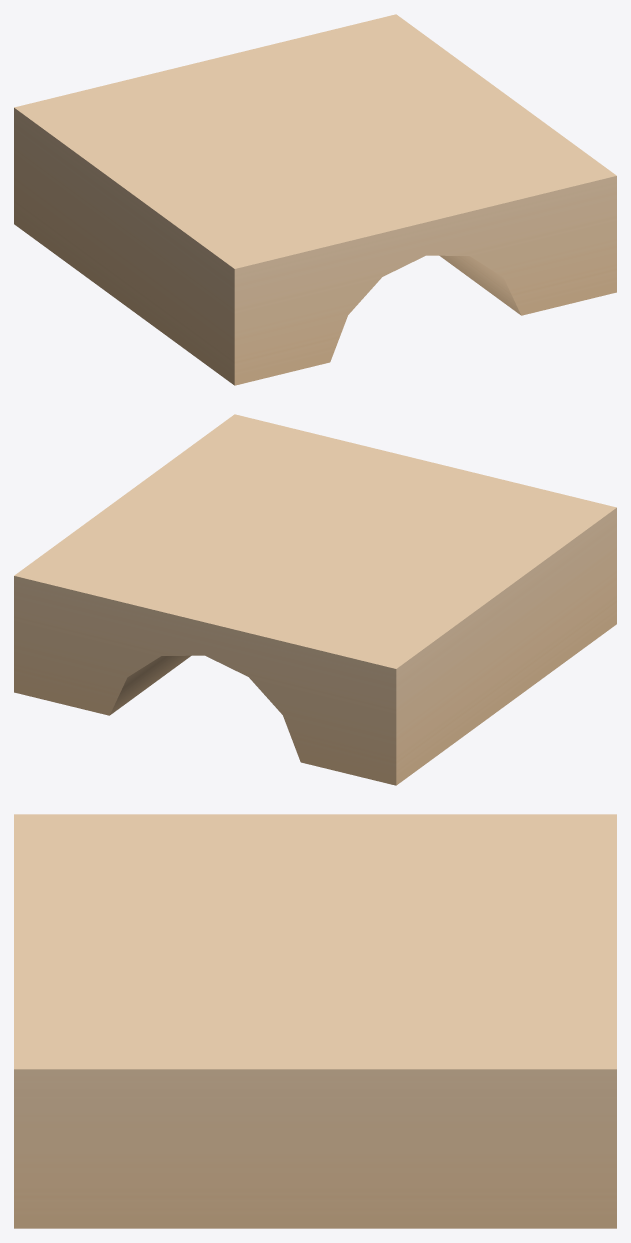
File: structure-gate-wide.glb
3 renders of one model, top to bottom at view 1: azimuth 30°, elevation 25°; view 2: azimuth 150°, elevation 25°; view 3: azimuth 270°, elevation 25°, orthographic. The views are drawn at different scales.
Parts seen in each view (by area): view 1: structure-gate-wide; view 2: structure-gate-wide; view 3: structure-gate-wide.
Boxes of the visible parts, <box> form: structure-gate-wide: <box>14,14,616,385</box>; structure-gate-wide: <box>14,414,616,785</box>; structure-gate-wide: <box>14,814,616,1228</box>.
Bounding box in the file's own units: 0.7999 × 0.2333 × 0.7999.
Materials: 1 (1 with a texture image).
